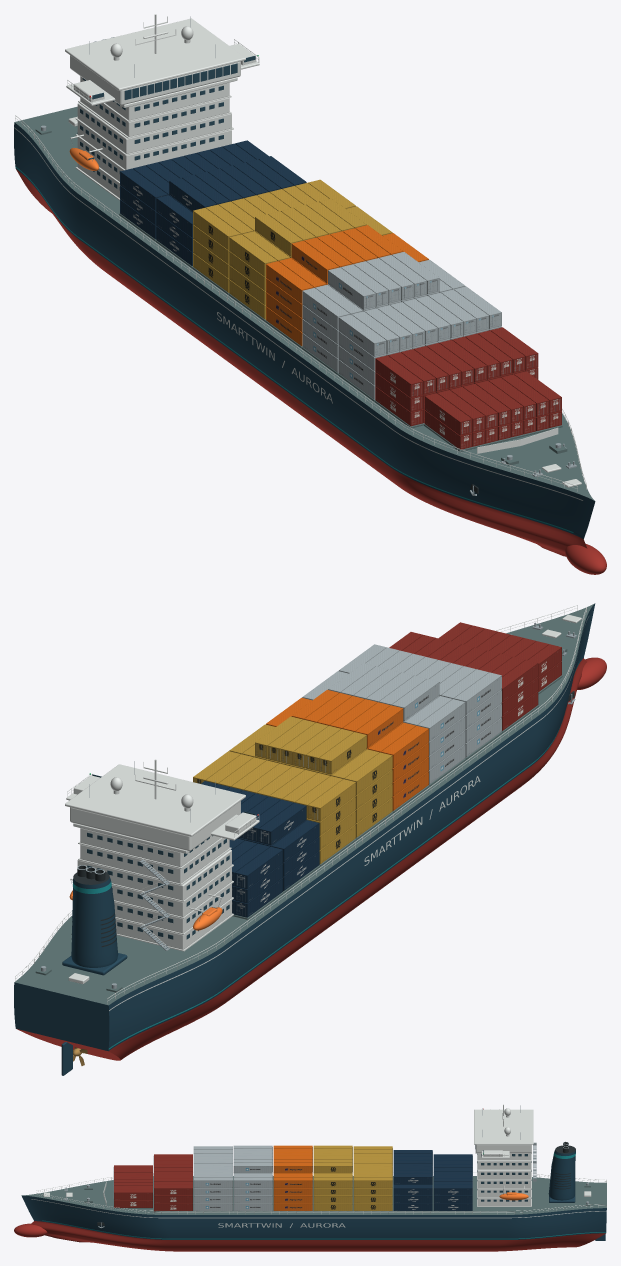
Rendered from container-ship-athena.glb.
The picture shows the model from 3 angles, top to bottom: view 1: azimuth 30°, elevation 25°; view 2: azimuth 150°, elevation 25°; view 3: azimuth 270°, elevation 25°; orthographic projection. The views are drawn at different scales.
Visible parts, largest first — view 1: hull, bridge, main_deck, accommodation, cargo_bay_03, cargo_bay_02, cargo_bay_04, cargo_bay_01, cargo_bay_06, cargo_bay_05, cargo_bay_08, cargo_bay_07 (+6 smaller); view 2: hull, main_deck, accommodation, bridge, cargo_bay_06, cargo_bay_07, cargo_bay_04, cargo_bay_05, cargo_bay_03, funnel, cargo_bay_08, cargo_bay_02 (+8 smaller); view 3: hull, main_deck, bridge, accommodation, cargo_bay_04, cargo_bay_05, cargo_bay_06, cargo_bay_03, cargo_bay_07, cargo_bay_08, cargo_bay_09, cargo_bay_02 (+8 smaller).
Part boxes in pixels (bbox=[...]): hull: bbox=[14, 122, 595, 556]; bridge: bbox=[65, 18, 259, 107]; main_deck: bbox=[14, 106, 594, 500]; accommodation: bbox=[75, 76, 233, 200]; cargo_bay_03: bbox=[338, 286, 501, 399]; cargo_bay_02: bbox=[375, 327, 538, 426]; cargo_bay_04: bbox=[302, 252, 465, 372]; cargo_bay_01: bbox=[424, 371, 561, 449]; cargo_bay_06: bbox=[229, 198, 392, 319]; cargo_bay_05: bbox=[266, 225, 428, 346]; cargo_bay_08: bbox=[156, 156, 306, 265]; cargo_bay_07: bbox=[193, 179, 355, 292]; hull: bbox=[14, 603, 595, 1060]; main_deck: bbox=[14, 603, 594, 1005]; accommodation: bbox=[77, 828, 233, 951]; bridge: bbox=[65, 764, 259, 853]; cargo_bay_06: bbox=[229, 716, 392, 837]; cargo_bay_07: bbox=[193, 751, 355, 864]; cargo_bay_04: bbox=[302, 663, 465, 784]; cargo_bay_05: bbox=[266, 689, 428, 810]; cargo_bay_03: bbox=[338, 644, 501, 757]; funnel: bbox=[62, 865, 127, 975]; cargo_bay_08: bbox=[201, 781, 319, 890]; cargo_bay_02: bbox=[389, 632, 538, 730]; hull: bbox=[21, 1195, 606, 1251]; main_deck: bbox=[22, 1176, 606, 1214]; bridge: bbox=[474, 1108, 533, 1158]; accommodation: bbox=[477, 1153, 531, 1206]; cargo_bay_04: bbox=[233, 1145, 272, 1210]; cargo_bay_05: bbox=[273, 1145, 312, 1210]; cargo_bay_06: bbox=[313, 1145, 352, 1210]; cargo_bay_03: bbox=[193, 1146, 232, 1210]; cargo_bay_07: bbox=[353, 1146, 392, 1210]; cargo_bay_08: bbox=[393, 1150, 432, 1210]; cargo_bay_09: bbox=[433, 1154, 472, 1210]; cargo_bay_02: bbox=[153, 1154, 192, 1211].
Size of the model in its own units: 33.44 by 47.31 by 185.
Materials: 23 (6 with a texture image).
